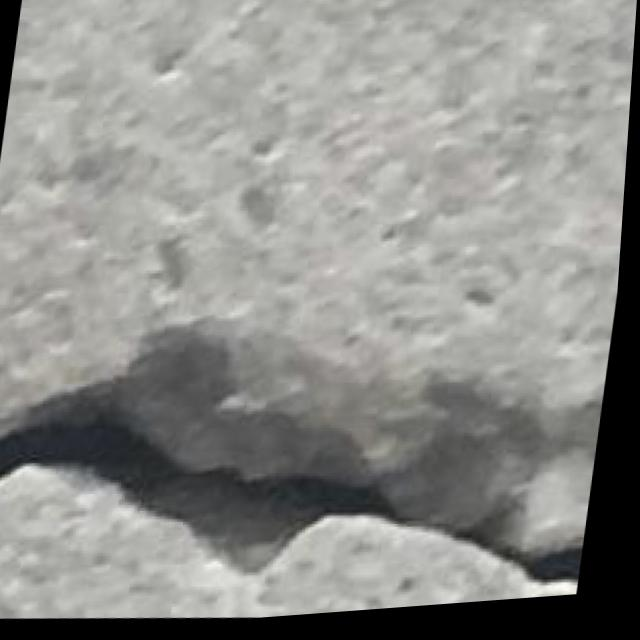Crack: (0, 341, 610, 640)
